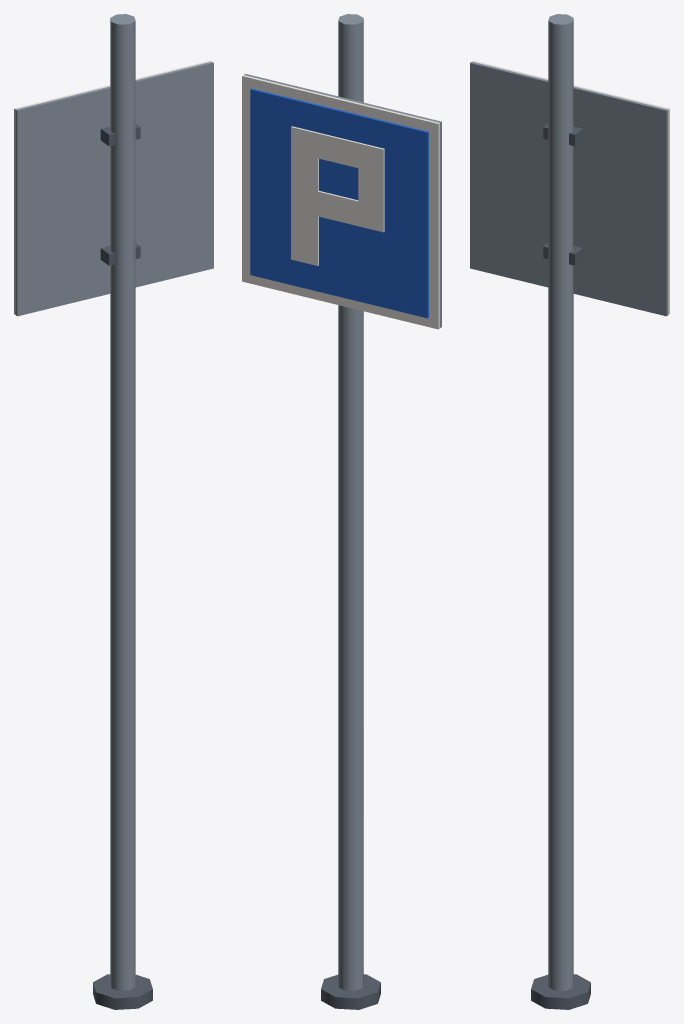
File: sign_parking.glb
3 views of the same model, side by side, from view 1: azimuth 30°, elevation 25°; view 2: azimuth 150°, elevation 25°; view 3: azimuth 330°, elevation 25° (orthographic).
Visible parts, largest first — view 1: sign_parking; view 2: sign_parking; view 3: sign_parking.
Boxes of the visible parts, left/top/right/bottom form: sign_parking: left=14, top=14, right=213, bottom=1009; sign_parking: left=242, top=14, right=441, bottom=1009; sign_parking: left=470, top=14, right=669, bottom=1009.
Size of the model in its own units: 0.62 by 2.95 by 0.17.
